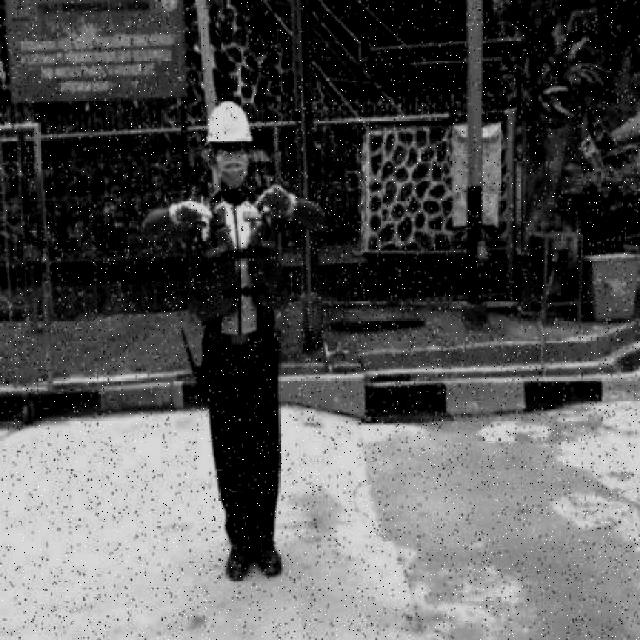Boots: (224, 539, 250, 587), (252, 544, 286, 580)
Gloves: (253, 178, 299, 226), (166, 196, 217, 235)
Helmet: (205, 97, 253, 143)
Mask: (192, 221, 292, 324)
